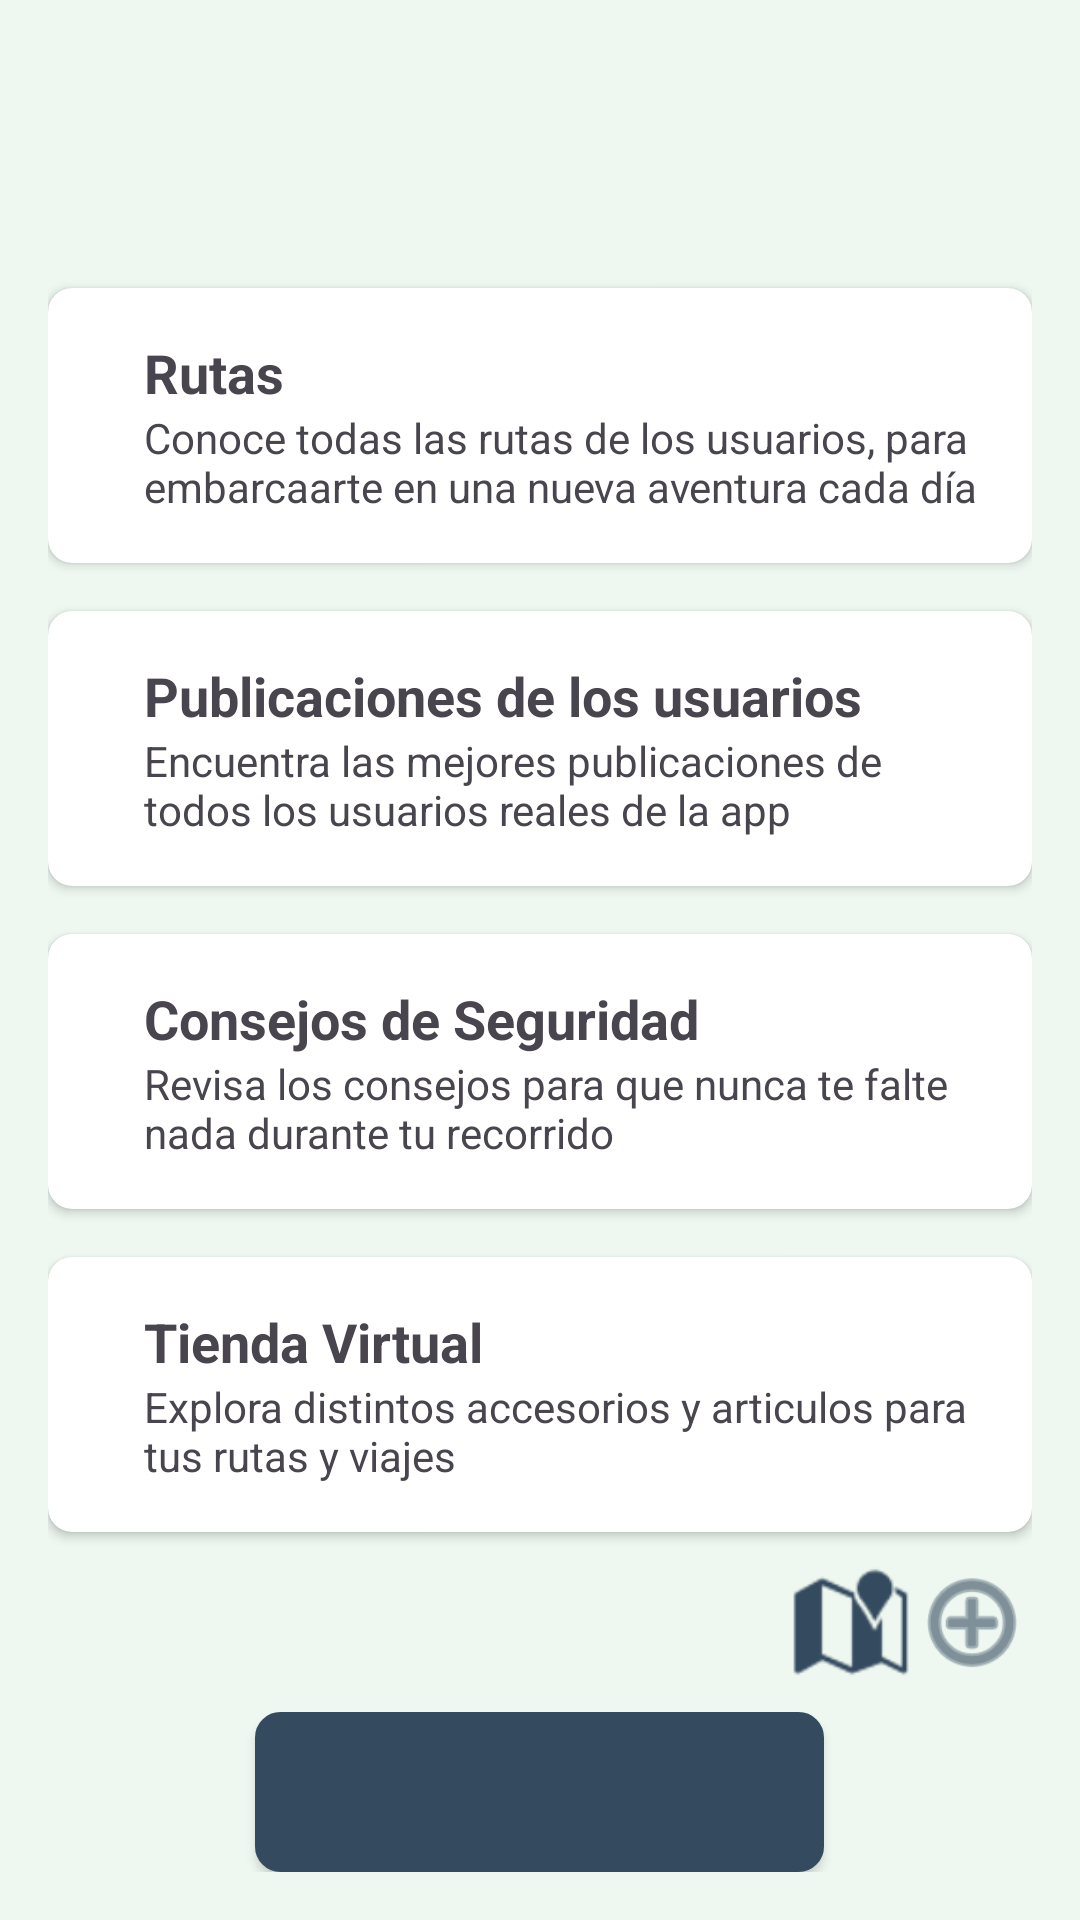

Named icons in this screenshot (1080*1920) and their bounding boxes, (left=x1, top=y1, right=x2, bottom=y2):
add: (left=928, top=1578, right=1016, bottom=1667)
map: (left=793, top=1569, right=908, bottom=1675)
